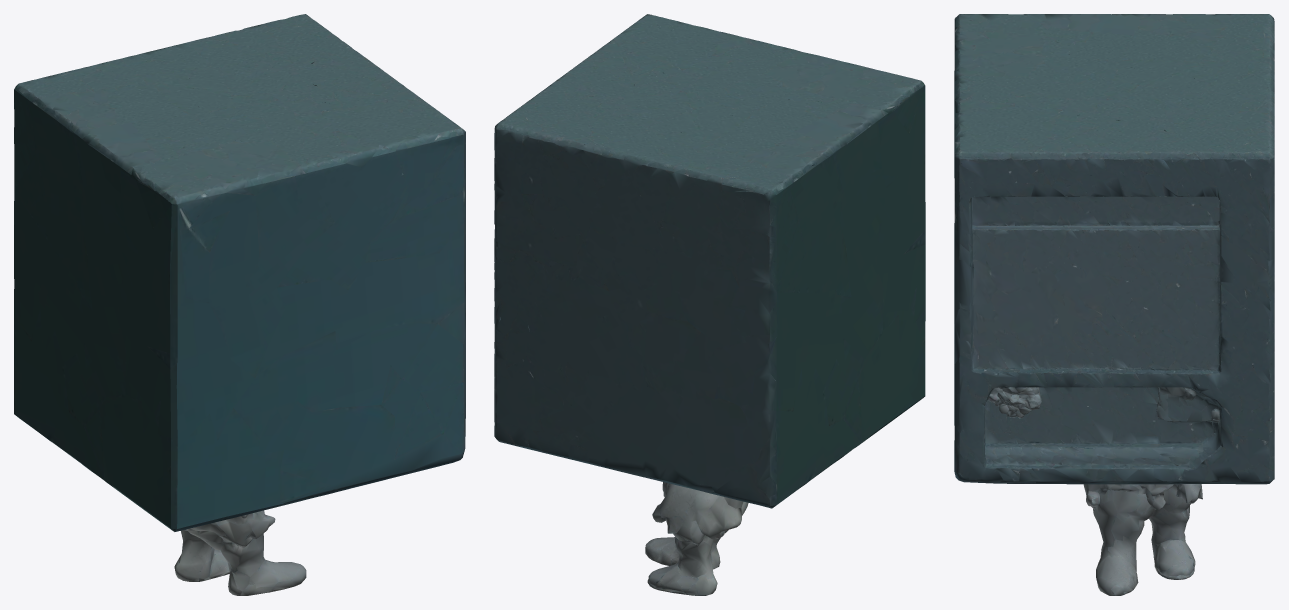
File: TST-TOP-GM-52.glb
The picture shows the model from 3 angles, left to right: view 1: azimuth 30°, elevation 25°; view 2: azimuth 150°, elevation 25°; view 3: azimuth 270°, elevation 25°; orthographic projection. The views are drawn at different scales.
Parts seen in each view (by area): view 1: mesh_node; view 2: mesh_node; view 3: mesh_node.
Boxes of the visible parts, x1,y1,x2,y2 form: mesh_node: (14, 14, 465, 595); mesh_node: (494, 14, 925, 595); mesh_node: (954, 14, 1274, 595).
Bounding box in the file's own units: 0.2217 × 0.348 × 0.2096.
Materials: 1 (1 with a texture image).
